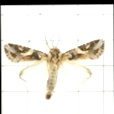Spodoptera litura: (3, 29, 106, 100)
